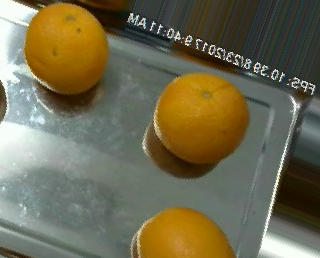Orange: (152, 71, 249, 163), (25, 1, 110, 95), (135, 206, 236, 258)
